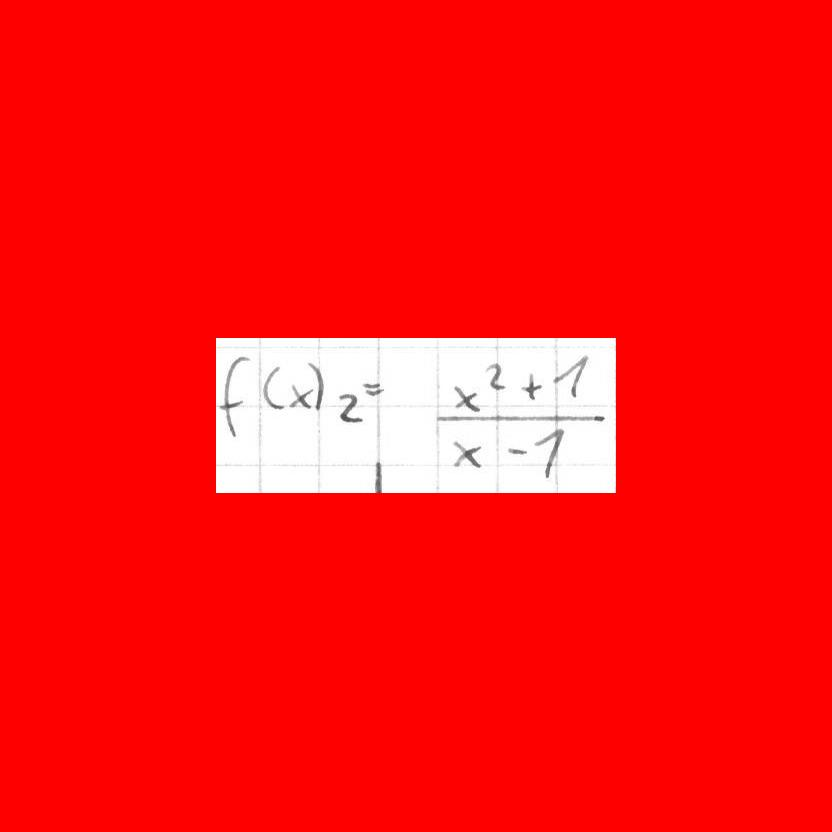Char: (215, 353, 252, 441), (550, 350, 590, 402), (431, 411, 606, 422), (532, 425, 566, 478), (449, 436, 485, 469), (260, 363, 284, 412), (451, 383, 484, 415), (337, 389, 364, 424), (482, 358, 509, 393), (311, 358, 326, 412), (288, 380, 314, 410), (520, 370, 543, 401), (361, 379, 386, 399), (506, 441, 528, 458)
